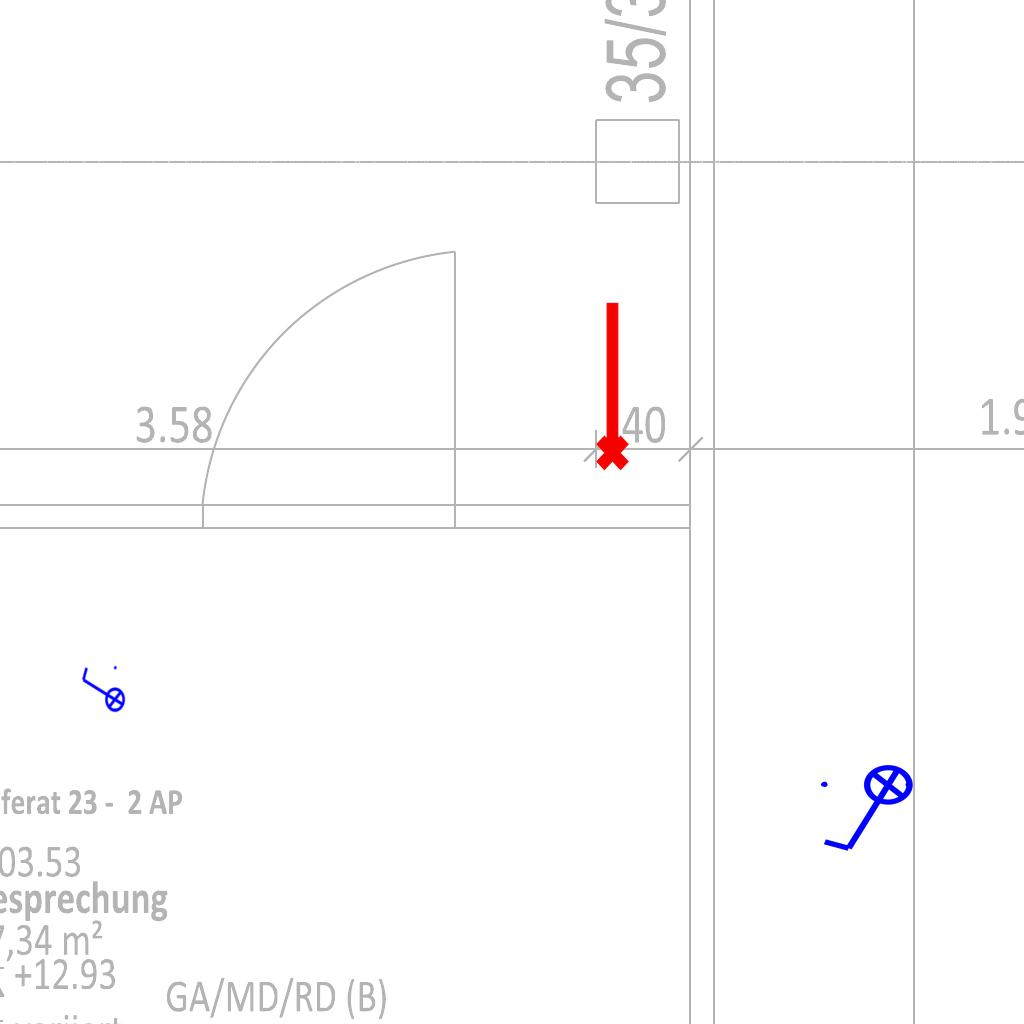ASR_Ansaugoeffnung: (587, 297, 633, 473)
Ausschalter_beleuchtet: (815, 763, 927, 859), (78, 663, 126, 719)
